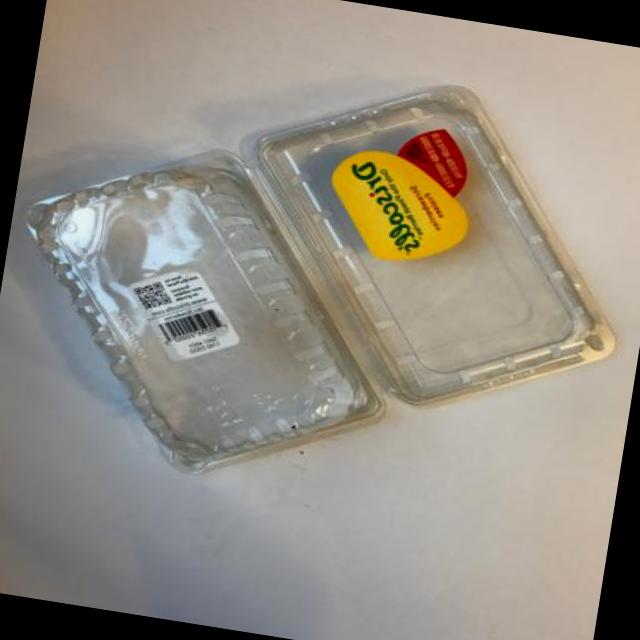plastic: (48, 57, 595, 461)
